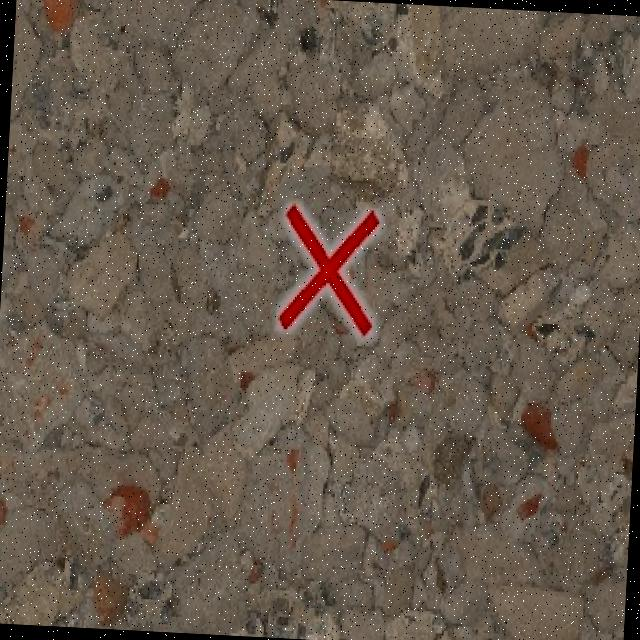x_marker: (278, 205, 378, 335)
